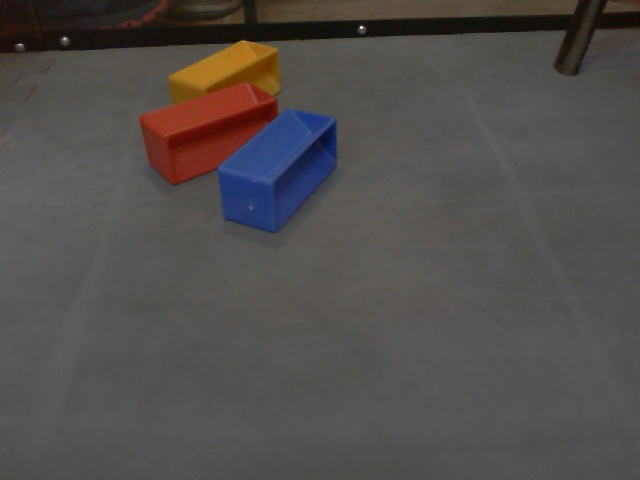BlueSample: (217, 106, 338, 235)
RedSample: (138, 82, 280, 185)
YellowSample: (168, 38, 282, 111)
